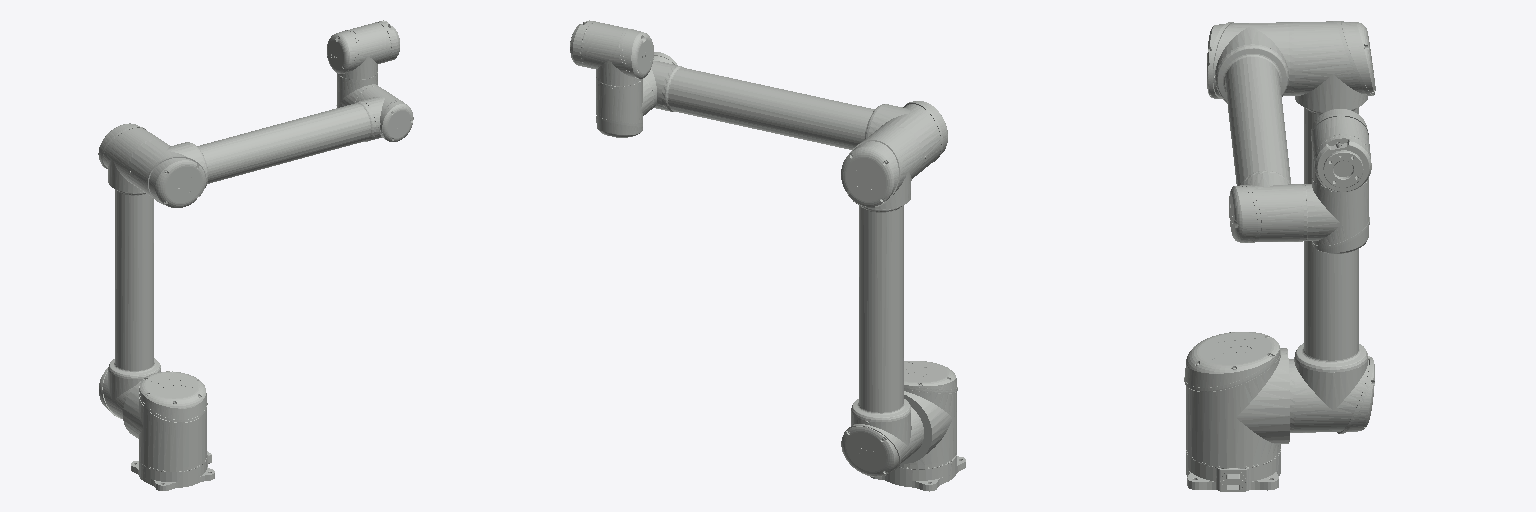
The robot description file, URDF, robot "comp_urdf":
<?xml version="1.0" encoding="utf-8"?>
<!-- This URDF was automatically created by SolidWorks to URDF Exporter! Originally created by [author] ([email redacted]) 
     Commit Version: 1.6.0-4-g7f85cfe  Build Version: 1.6.7995.38578
     For more information, please see http://wiki.ros.org/sw_urdf_exporter -->
<robot
  name="comp_urdf">
  <link
    name="base_link">
    <inertial>
      <origin
        xyz="0.000474715962777567 6.93145970603881E-06 0.0184356040161808"
        rpy="0 0 0" />
      <mass
        value="0.709508215614969" />
      <inertia
        ixx="0.0011478116985688"
        ixy="-4.68221897322195E-08"
        ixz="-2.94406358458422E-07"
        iyy="0.00117554092618515"
        iyz="7.86804297850396E-08"
        izz="0.00215046347527902" />
    </inertial>
    <visual>
      <origin
        xyz="0 0 0"
        rpy="0 0 0" />
      <geometry>
        <mesh
          filename="package://comp_urdf/meshes/base_link.STL" />
      </geometry>
      <material
        name="">
        <color
          rgba="0.756862745098039 0.768627450980392 0.752941176470588 1" />
      </material>
    </visual>
    <collision>
      <origin
        xyz="0 0 0"
        rpy="0 0 0" />
      <geometry>
        <mesh
          filename="package://comp_urdf/meshes/base_link.STL" />
      </geometry>
    </collision>
  </link>
  <link
    name="forearm_link">
    <inertial>
      <origin
        xyz="-0.000417233365235116 0.00888009827122128 0.124469861337945"
        rpy="0 0 0" />
      <mass
        value="3.43106194081477" />
      <inertia
        ixx="0.0111617708406248"
        ixy="3.09959483396505E-05"
        ixz="5.31668350767469E-05"
        iyy="0.0105036381492035"
        iyz="-0.00112997578589279"
        izz="0.010871929422939" />
    </inertial>
    <visual>
      <origin
        xyz="0 0 0"
        rpy="0 0 0" />
      <geometry>
        <mesh
          filename="package://comp_urdf/meshes/forearm_link.STL" />
      </geometry>
      <material
        name="">
        <color
          rgba="0.756862745098039 0.768627450980392 0.752941176470588 1" />
      </material>
    </visual>
    <collision>
      <origin
        xyz="0 0 0"
        rpy="0 0 0" />
      <geometry>
        <mesh
          filename="package://comp_urdf/meshes/forearm_link.STL" />
      </geometry>
    </collision>
  </link>
  <joint
    name="elbow_joint"
    type="revolute">
    <origin
      xyz="0 0 0"
      rpy="0 0 0" />
    <parent
      link="base_link" />
    <child
      link="forearm_link" />
    <axis
      xyz="0 0 1" />
    <limit
      lower="0"
      upper="3.142"
      effort="300"
      velocity="3" />
  </joint>
  <link
    name="upper_arm_link">
    <inertial>
      <origin
        xyz="-6.62224629993657E-09 0.28802787480159 0.0640817195010175"
        rpy="0 0 0" />
      <mass
        value="5.76599130819734" />
      <inertia
        ixx="0.0535929953325424"
        ixy="8.47398220857675E-09"
        ixz="7.00144499668487E-12"
        iyy="0.00779524282404847"
        iyz="1.33162859228414E-11"
        izz="0.0538769711405667" />
    </inertial>
    <visual>
      <origin
        xyz="0 0 0"
        rpy="0 0 0" />
      <geometry>
        <mesh
          filename="package://comp_urdf/meshes/upper_arm_link.STL" />
      </geometry>
      <material
        name="">
        <color
          rgba="0.756862745098039 0.768627450980392 0.752941176470588 1" />
      </material>
    </visual>
    <collision>
      <origin
        xyz="0 0 0"
        rpy="0 0 0" />
      <geometry>
        <mesh
          filename="package://comp_urdf/meshes/upper_arm_link.STL" />
      </geometry>
    </collision>
  </link>
  <joint
    name="shoulder_lift_joint"
    type="revolute">
    <origin
      xyz="-0.0101858973806342 0.216387045535597 0.130478612153435"
      rpy="1.5707963267949 0 0.0470378619132535" />
    <parent
      link="forearm_link" />
    <child
      link="upper_arm_link" />
    <axis
      xyz="0 0 -1" />
    <limit
      lower="-1.57"
      upper="1.57"
      effort="200"
      velocity="3" />
  </joint>
  <link
    name="shoulder_link">
    <inertial>
      <origin
        xyz="0.246257123036129 0.000387829297030517 -0.0649023298137923"
        rpy="0 0 0" />
      <mass
        value="4.9783657227357" />
      <inertia
        ixx="0.00585036080732032"
        ixy="7.22224374882084E-09"
        ixz="-0.000200011865076566"
        iyy="0.0515619149330909"
        iyz="-1.51826514200711E-08"
        izz="0.0517818330994382" />
    </inertial>
    <visual>
      <origin
        xyz="0 0 0"
        rpy="0 0 0" />
      <geometry>
        <mesh
          filename="package://comp_urdf/meshes/shoulder_link.STL" />
      </geometry>
      <material
        name="">
        <color
          rgba="0.756862745098039 0.768627450980392 0.752941176470588 1" />
      </material>
    </visual>
    <collision>
      <origin
        xyz="0 0 0"
        rpy="0 0 0" />
      <geometry>
        <mesh
          filename="package://comp_urdf/meshes/shoulder_link.STL" />
      </geometry>
    </collision>
  </link>
  <joint
    name="shoulder_pan_joint"
    type="revolute">
    <origin
      xyz="0.0063581 0.58103 0.25509"
      rpy="0 0 0" />
    <parent
      link="upper_arm_link" />
    <child
      link="shoulder_link" />
    <axis
      xyz="0 0 -1" />
    <limit
      lower="-1.57"
      upper="1.57"
      effort="200"
      velocity="3" />
  </joint>
  <link
    name="wrist_1_link">
    <inertial>
      <origin
        xyz="-0.00729201114161204 0.00321226648515305 -0.165501856115684"
        rpy="0 0 0" />
      <mass
        value="0.838416602115169" />
      <inertia
        ixx="0.00103764590945858"
        ixy="6.1678427639782E-06"
        ixz="-3.41912063311227E-06"
        iyy="0.000964399283407107"
        iyz="0.000131146780291306"
        izz="0.000965228352749113" />
    </inertial>
    <visual>
      <origin
        xyz="0 0 0"
        rpy="0 0 0" />
      <geometry>
        <mesh
          filename="package://comp_urdf/meshes/wrist_1_link.STL" />
      </geometry>
      <material
        name="">
        <color
          rgba="0.756862745098039 0.768627450980392 0.752941176470588 1" />
      </material>
    </visual>
    <collision>
      <origin
        xyz="0 0 0"
        rpy="0 0 0" />
      <geometry>
        <mesh
          filename="package://comp_urdf/meshes/wrist_1_link.STL" />
      </geometry>
    </collision>
  </link>
  <joint
    name="wrist_1_joint"
    type="revolute">
    <origin
      xyz="0.564743829482923 0.000387999999999611 -0.00907155684199396"
      rpy="0 -0.047037861913253 0" />
    <parent
      link="shoulder_link" />
    <child
      link="wrist_1_link" />
    <axis
      xyz="0.0470205181465543 0 0.998893923734262" />
    <limit
      lower="-1.57"
      upper="1.57"
      effort="200"
      velocity="3" />
  </joint>
  <link
    name="wrist_2_link">
    <inertial>
      <origin
        xyz="0.00316291359897536 0.00112400113357214 0.165853987349071"
        rpy="0 0 0" />
      <mass
        value="0.838416617667643" />
      <inertia
        ixx="0.000964562160489255"
        ixy="-3.45340251533492E-06"
        ixz="-0.000131146638582553"
        iyy="0.0010376441457871"
        iyz="-6.17073712451938E-06"
        izz="0.000965067337323422" />
    </inertial>
    <visual>
      <origin
        xyz="0 0 0"
        rpy="0 0 0" />
      <geometry>
        <mesh
          filename="package://comp_urdf/meshes/wrist_2_link.STL" />
      </geometry>
      <material
        name="">
        <color
          rgba="0.756862745098039 0.768627450980392 0.752941176470588 1" />
      </material>
    </visual>
    <collision>
      <origin
        xyz="0 0 0"
        rpy="0 0 0" />
      <geometry>
        <mesh
          filename="package://comp_urdf/meshes/wrist_2_link.STL" />
      </geometry>
    </collision>
  </link>
  <joint
    name="wrist_2_joint"
    type="revolute">
    <origin
      xyz="-0.00751539473194318 -0.055880128168008 -0.170248644566122"
      rpy="-1.5707963267949 0 0" />
    <parent
      link="wrist_1_link" />
    <child
      link="wrist_2_link" />
    <axis
      xyz="0 0 -1" />
    <limit
      lower="-1.57"
      upper="1.57"
      effort="100"
      velocity="2" />
  </joint>
  <link
    name="wrist_3_link">
    <inertial>
      <origin
        xyz="-0.000179863916993997 4.49520242068457E-05 -0.130619960084231"
        rpy="0 0 0" />
      <mass
        value="0.159318680768655" />
      <inertia
        ixx="8.22388819037709E-05"
        ixy="1.07234039350636E-06"
        ixz="-8.72789593286878E-08"
        iyy="8.75708445167452E-05"
        iyz="-4.50954495110317E-07"
        izz="0.000149755722717753" />
    </inertial>
    <visual>
      <origin
        xyz="0 0 0"
        rpy="0 0 0" />
      <geometry>
        <mesh
          filename="package://comp_urdf/meshes/wrist_3_link.STL" />
      </geometry>
      <material
        name="">
        <color
          rgba="0.756862745098039 0.768627450980392 0.752941176470588 1" />
      </material>
    </visual>
    <collision>
      <origin
        xyz="0 0 0"
        rpy="0 0 0" />
      <geometry>
        <mesh
          filename="package://comp_urdf/meshes/wrist_3_link.STL" />
      </geometry>
    </collision>
  </link>
  <joint
    name="wrist_3_joint"
    type="revolute">
    <origin
      xyz="-0.0558641230465918 -0.0016544926574682 0.170606030818962"
      rpy="1.57079632679489 0 -1.52375846488164" />
    <parent
      link="wrist_2_link" />
    <child
      link="wrist_3_link" />
    <axis
      xyz="0 0 1" />
    <limit
      lower="0"
      upper="3.142"
      effort="50"
      velocity="2" />
  </joint>
</robot>

--- Render facts (derived) ---
Views: 3 orthographic renders of the robot side by side, from view 1: azimuth 30°, elevation 25°; view 2: azimuth 150°, elevation 25°; view 3: azimuth 270°, elevation 25°.
Robot: comp_urdf — 7 links, 6 joints (6 revolute); root link base_link; default pose: every joint at zero.
Links seen in each view (by area): view 1: shoulder_link, upper_arm_link, forearm_link, wrist_2_link, base_link, wrist_1_link; view 2: upper_arm_link, shoulder_link, forearm_link, wrist_2_link, wrist_1_link, base_link; view 3: upper_arm_link, shoulder_link, forearm_link, wrist_1_link, wrist_3_link, base_link, wrist_2_link.
Boxes of the visible links, bbox=[...] form: shoulder_link: bbox=[129, 86, 413, 207]; upper_arm_link: bbox=[98, 123, 163, 418]; forearm_link: bbox=[123, 371, 207, 471]; wrist_2_link: bbox=[327, 22, 391, 79]; base_link: bbox=[131, 451, 214, 490]; wrist_1_link: bbox=[336, 72, 378, 107]; upper_arm_link: bbox=[841, 124, 923, 476]; shoulder_link: bbox=[643, 52, 947, 172]; forearm_link: bbox=[899, 361, 957, 469]; wrist_2_link: bbox=[581, 22, 653, 85]; wrist_1_link: bbox=[596, 77, 652, 137]; base_link: bbox=[870, 456, 965, 491]; upper_arm_link: bbox=[1287, 21, 1375, 433]; shoulder_link: bbox=[1207, 22, 1307, 242]; forearm_link: bbox=[1184, 332, 1289, 468]; wrist_1_link: bbox=[1306, 178, 1369, 253]; wrist_3_link: bbox=[1314, 136, 1371, 191]; base_link: bbox=[1186, 452, 1280, 491]; wrist_2_link: bbox=[1311, 109, 1370, 185].
Bounding box of the posed robot: 0.7368 × 0.3006 × 0.8734 m (x, y, z).
7 mesh visuals loaded from 7 distinct referenced files (7 binary STL).